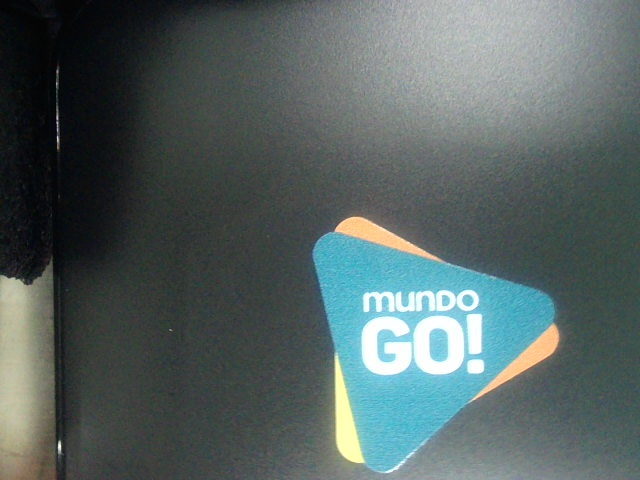AP_IPGMundoGO: (284, 200, 580, 476)
